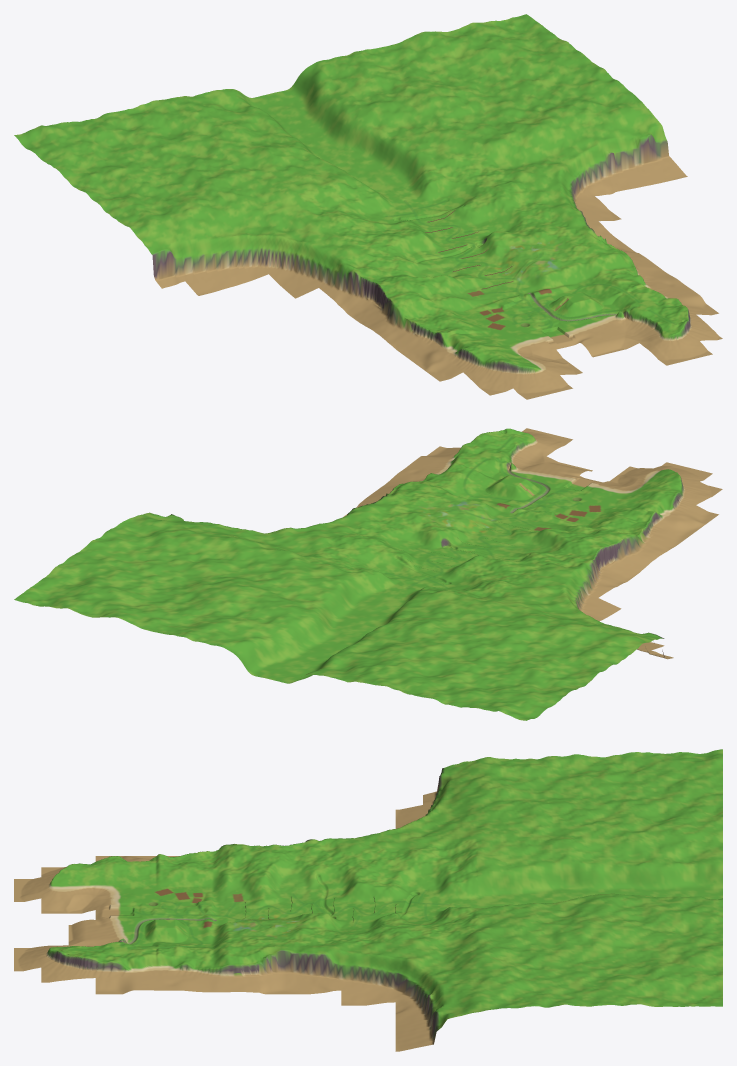
The model's file is terrain.glb.
3 renders of one model, top to bottom at view 1: azimuth 30°, elevation 25°; view 2: azimuth 150°, elevation 25°; view 3: azimuth 270°, elevation 25°, orthographic.
Visible parts, largest first — view 1: terrain_0_2, terrain_4_2, terrain_1_2, terrain_1_3, terrain_3_2, terrain_3_1, terrain_3_3, terrain_4_0, terrain_3_4, terrain_3_0, terrain_0_0, terrain_3_5 (+22 smaller); view 2: terrain_3_0, terrain_4_1, terrain_0_1, terrain_3_1, terrain_1_1, terrain_3_2, terrain_3_3, terrain_1_0, terrain_4_0, terrain_0_0, terrain_2_0, terrain_3_5 (+20 smaller); view 3: terrain_2_2, terrain_4_2, terrain_3_4, terrain_2_1, terrain_2_3, terrain_3_5, terrain_2_0, terrain_2_4, terrain_1_0, terrain_1_1, terrain_3_3, terrain_2_5 (+21 smaller).
Boxes of the visible parts, <box> form: terrain_0_2: <box>122,197,268,295</box>; terrain_4_2: <box>494,104,640,196</box>; terrain_1_2: <box>215,176,360,273</box>; terrain_1_3: <box>269,229,413,311</box>; terrain_3_2: <box>401,131,547,209</box>; terrain_3_1: <box>347,86,493,170</box>; terrain_3_3: <box>455,181,589,255</box>; terrain_4_0: <box>387,22,533,86</box>; terrain_3_4: <box>509,228,655,299</box>; terrain_3_0: <box>293,46,440,112</box>; terrain_0_0: <box>14,113,160,180</box>; terrain_3_5: <box>563,280,708,351</box>; terrain_3_0: <box>154,593,300,669</box>; terrain_4_1: <box>114,533,260,593</box>; terrain_0_1: <box>487,626,633,687</box>; terrain_3_1: <box>208,560,354,619</box>; terrain_1_1: <box>394,604,540,663</box>; terrain_3_2: <box>261,530,406,599</box>; terrain_3_3: <box>316,499,461,559</box>; terrain_1_0: <box>340,643,486,698</box>; terrain_4_0: <box>61,570,207,631</box>; terrain_0_0: <box>433,664,579,720</box>; terrain_2_0: <box>247,620,393,683</box>; terrain_3_5: <box>423,431,569,488</box>; terrain_2_2: <box>395,849,504,917</box>; terrain_4_2: <box>395,940,504,1027</box>; terrain_3_4: <box>177,919,286,977</box>; terrain_2_1: <box>505,845,613,905</box>; terrain_2_3: <box>286,862,395,920</box>; terrain_3_5: <box>68,919,177,979</box>; terrain_2_0: <box>614,845,722,899</box>; terrain_2_4: <box>177,866,286,927</box>; terrain_1_0: <box>614,796,722,848</box>; terrain_1_1: <box>505,800,613,850</box>; terrain_3_3: <box>286,913,395,977</box>; terrain_2_5: <box>68,878,177,936</box>.
Size of the model in its own units: 990 by 96.08 by 1170.
